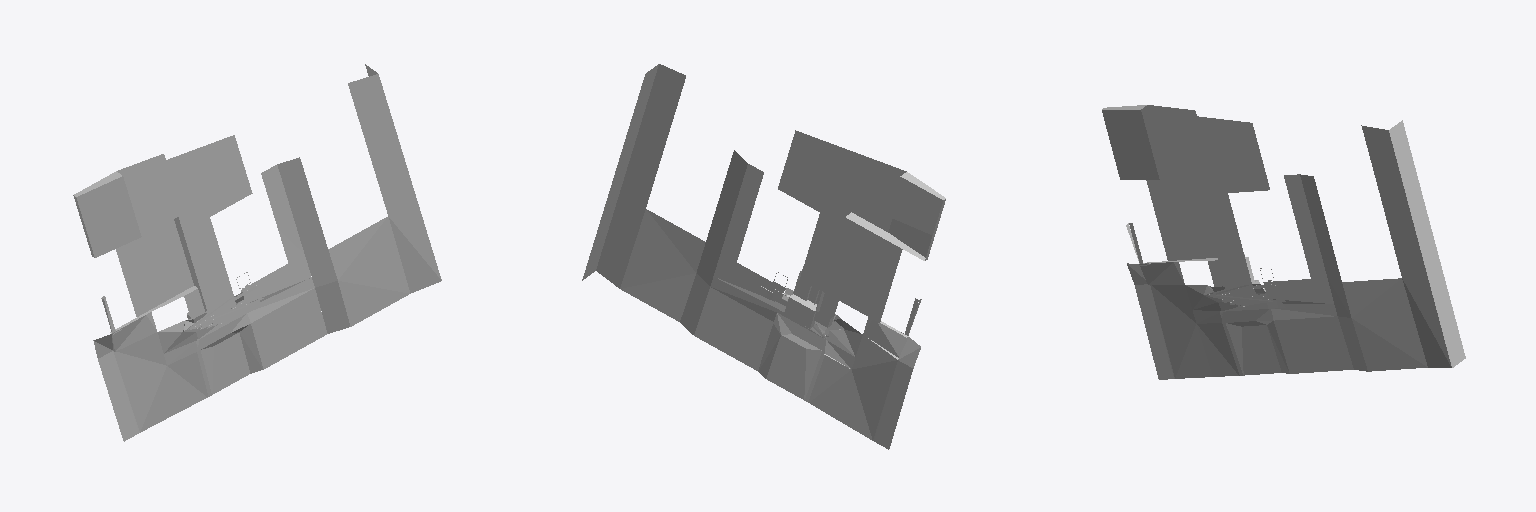
File: Site51-Terrain.obj
The picture shows the model from 3 angles: view 1: azimuth 30°, elevation 25°; view 2: azimuth 150°, elevation 25°; view 3: azimuth 330°, elevation 25°; orthographic projection.
Size of the model in its own units: 1111 by 943 by 74.62.